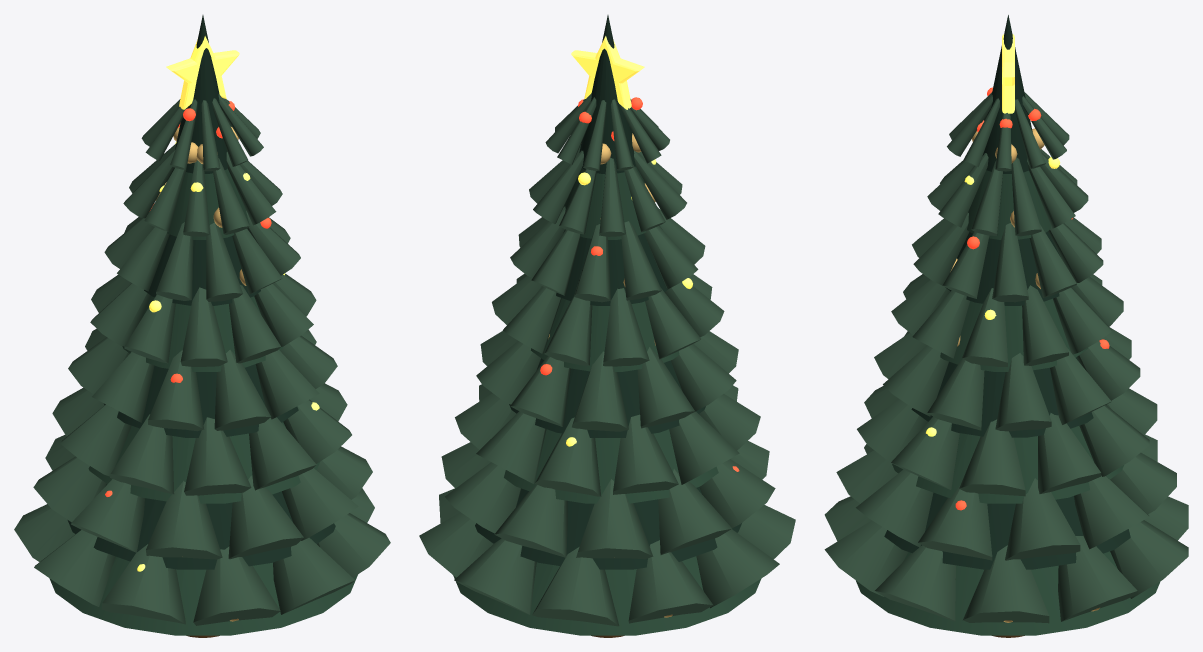
Rendered from mia-xmas_fir.glb.
The picture shows the model from 3 angles, left to right: view 1: azimuth 30°, elevation 25°; view 2: azimuth 150°, elevation 25°; view 3: azimuth 270°, elevation 25°; orthographic projection.
Parts seen in each view (by area): view 1: Body_pine-olive, Body_pine-mid, Body_pine-deep, Body_amber, Body_trim; view 2: Body_pine-olive, Body_pine-mid, Body_pine-deep, Body_amber, Body_red-bulb; view 3: Body_pine-olive, Body_pine-mid, Body_pine-deep, Body_amber, Body_red-bulb.
Part boxes in pixels (box(x1,y1,x2,y2)): Body_pine-olive: box(14, 94, 390, 625); Body_pine-mid: box(49, 167, 357, 635); Body_pine-deep: box(67, 15, 335, 569); Body_amber: box(137, 36, 319, 571); Body_trim: box(155, 127, 246, 621); Body_pine-olive: box(419, 93, 795, 626); Body_pine-mid: box(453, 166, 761, 635); Body_pine-deep: box(475, 15, 741, 569); Body_amber: box(566, 36, 692, 446); Body_red-bulb: box(540, 97, 739, 471); Body_pine-olive: box(824, 92, 1188, 623); Body_pine-mid: box(856, 170, 1160, 635); Body_pine-deep: box(884, 15, 1130, 569); Body_amber: box(926, 34, 1060, 436); Body_red-bulb: box(955, 87, 1109, 510).
Size of the model in its own units: 2.52 by 4.48 by 2.42.
